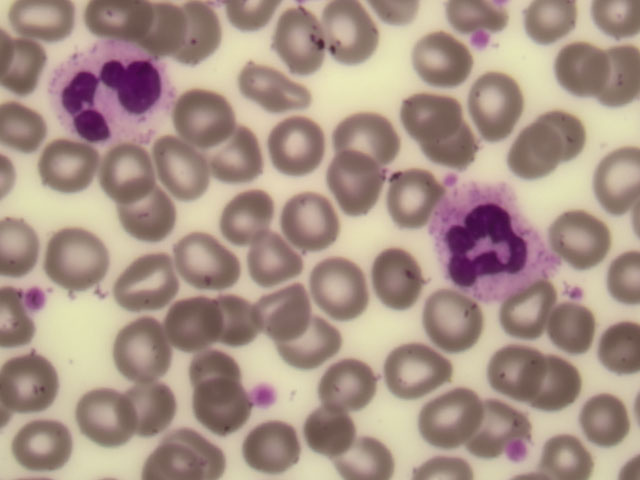Platelets: (20, 287, 49, 313), (254, 381, 277, 406), (473, 27, 493, 49), (566, 283, 584, 302), (507, 442, 527, 458)
RBC: (583, 323, 640, 378), (583, 146, 640, 201), (42, 139, 98, 194), (84, 143, 140, 198), (153, 140, 209, 195), (176, 86, 232, 141), (215, 127, 271, 182), (183, 6, 239, 61), (130, 2, 186, 57), (272, 121, 328, 176), (244, 58, 300, 113), (271, 8, 327, 63), (321, 5, 377, 60), (406, 29, 462, 84), (411, 85, 467, 140), (420, 116, 476, 171), (418, 121, 474, 176), (342, 113, 398, 168), (340, 171, 396, 226), (385, 162, 441, 217), (287, 189, 343, 244), (224, 185, 280, 240), (252, 238, 308, 293), (175, 234, 231, 289), (111, 258, 167, 313), (113, 187, 169, 242), (52, 231, 108, 286), (5, 356, 61, 411), (9, 422, 65, 477), (76, 390, 132, 445), (122, 381, 178, 436), (126, 327, 182, 382), (162, 296, 218, 351), (204, 289, 260, 344), (191, 335, 247, 390), (196, 377, 252, 432), (174, 425, 230, 480), (240, 420, 296, 475), (293, 404, 349, 459), (322, 349, 378, 404), (291, 324, 347, 379), (259, 280, 315, 335), (314, 258, 370, 313), (380, 247, 436, 302), (421, 287, 477, 342), (382, 344, 438, 399), (428, 389, 484, 444), (351, 425, 407, 480), (480, 336, 536, 391), (520, 344, 576, 399), (499, 288, 555, 343), (547, 304, 603, 359), (580, 390, 636, 445), (547, 210, 603, 265), (497, 134, 553, 189), (531, 111, 587, 166), (466, 79, 522, 134), (543, 45, 599, 100), (581, 36, 637, 91), (527, 1, 583, 56), (1, 43, 56, 98), (1, 100, 56, 155), (1, 217, 56, 272), (11, 1, 73, 42), (89, 1, 147, 42)
WBC: (431, 176, 556, 295), (54, 40, 172, 144)
